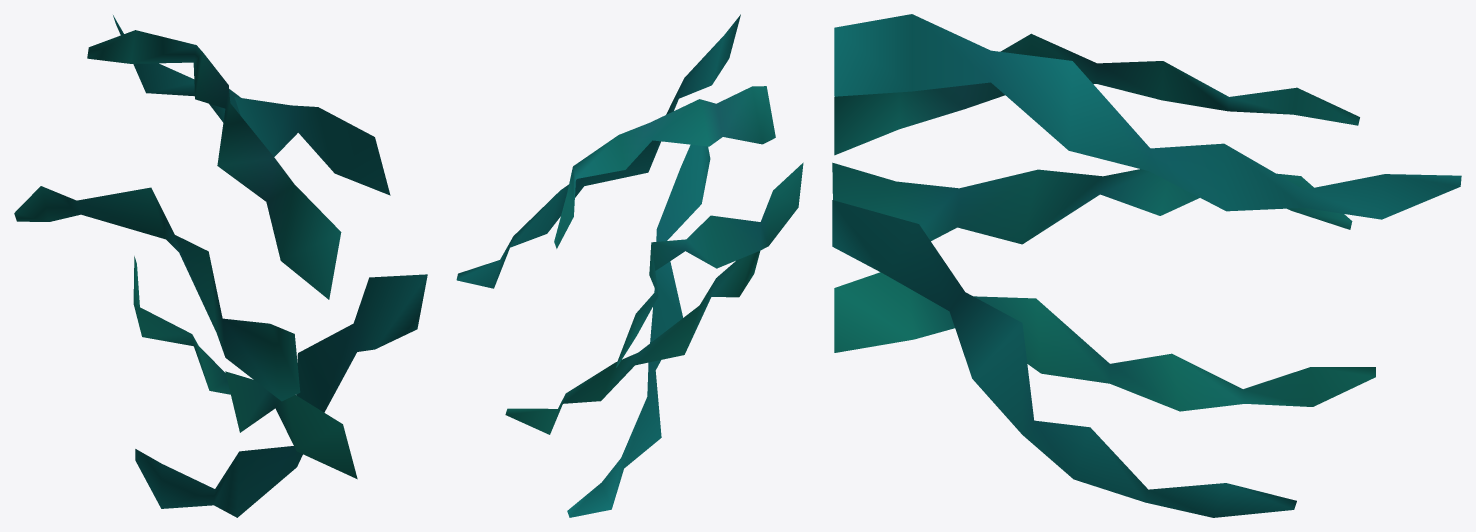
The model's file is seaweed_A.fbx.
3 renders of one model, left to right at view 1: azimuth 30°, elevation 25°; view 2: azimuth 150°, elevation 25°; view 3: azimuth 270°, elevation 25°, orthographic. The views are drawn at different scales.
Visible parts, largest first — view 1: seaweed_A; view 2: seaweed_A; view 3: seaweed_A.
Boxes of the visible parts, bbox=[...] form: seaweed_A: bbox=[14, 15, 427, 517]; seaweed_A: bbox=[456, 14, 803, 517]; seaweed_A: bbox=[832, 14, 1461, 517].
Size of the model in its own units: 91.86 by 273 by 307.
